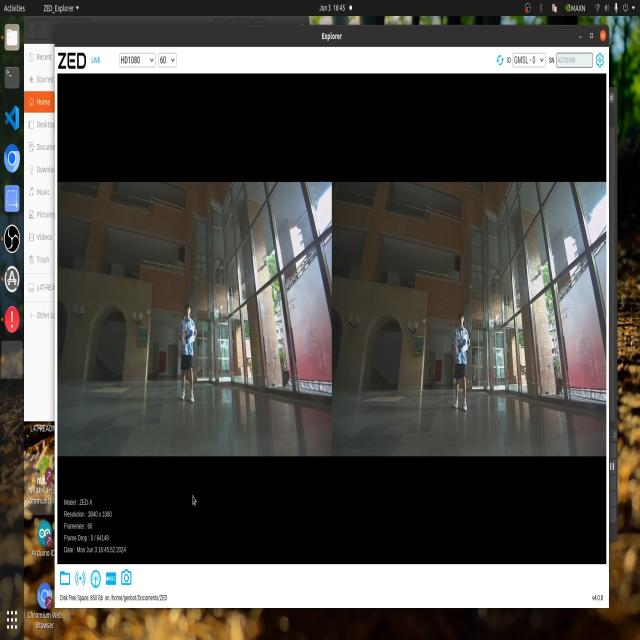blue: (180, 324, 196, 348), (454, 328, 467, 357)
